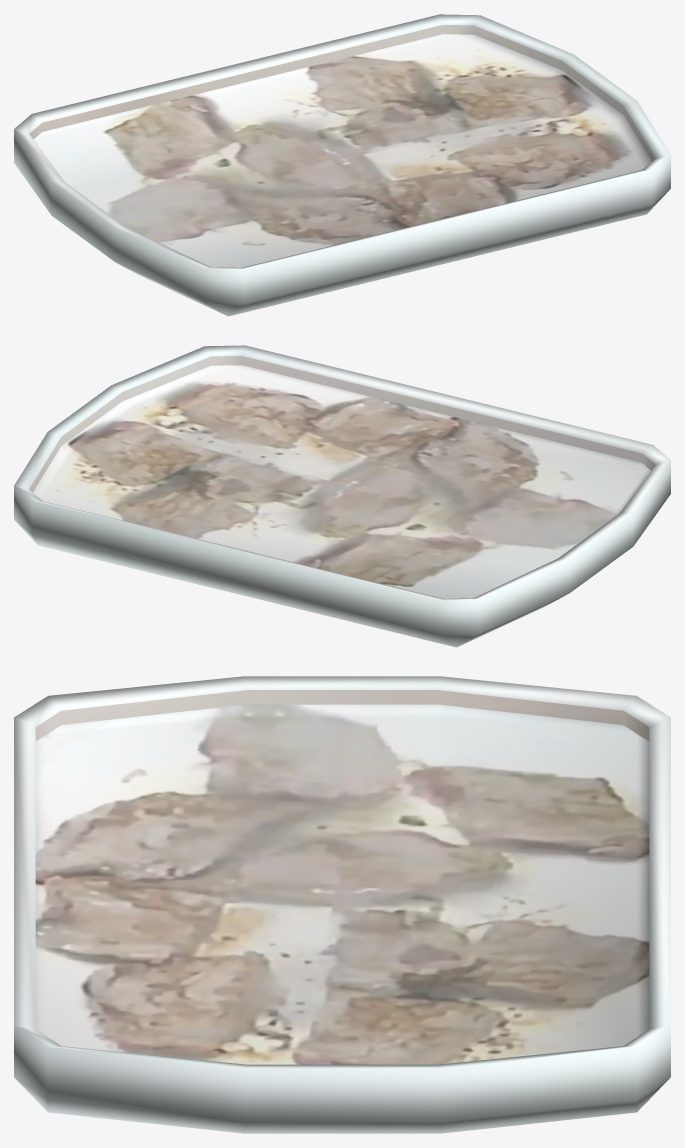
The model's file is PLATEmEAT.fbx.
The picture shows the model from 3 angles, top to bottom: view 1: azimuth 30°, elevation 25°; view 2: azimuth 150°, elevation 25°; view 3: azimuth 270°, elevation 25°; orthographic projection. The views are drawn at different scales.
Parts seen in each view (by area): view 1: Cube; view 2: Cube; view 3: Cube.
Part boxes in pixels (x1=…): Cube: x1=14, y1=14, x2=670, y2=316; Cube: x1=14, y1=345, x2=670, y2=647; Cube: x1=14, y1=676, x2=670, y2=1133.
Bounding box in the file's own units: 284 × 200 × 27.94.
